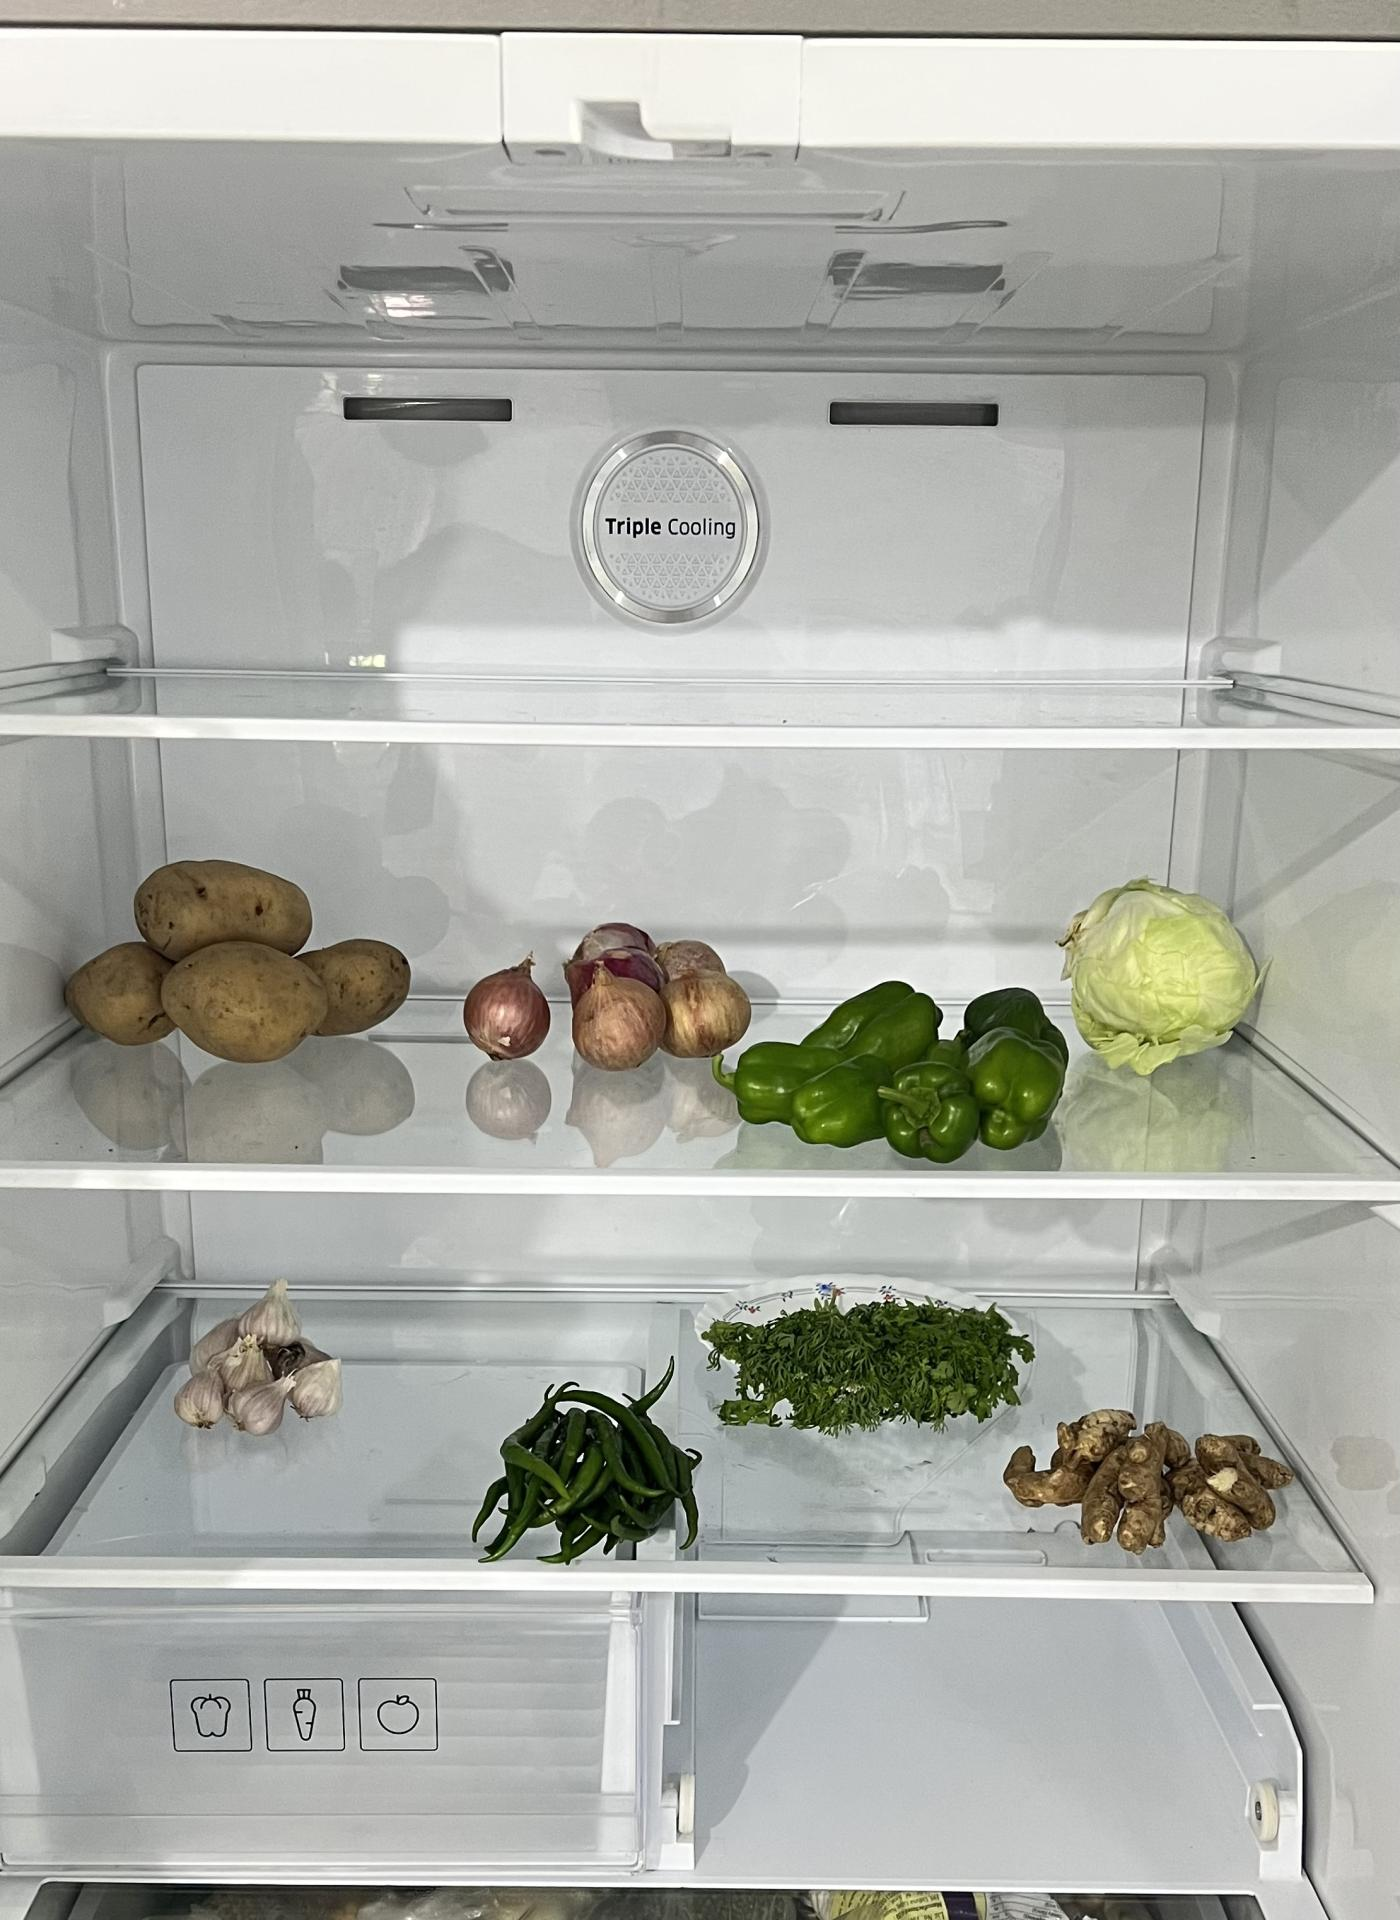cabbage: (1059, 874, 1254, 1067)
capsicum: (729, 976, 1072, 1154)
chillies: (480, 1374, 707, 1552)
coriander: (696, 1291, 1042, 1424)
garlic: (170, 1278, 346, 1433)
ginger: (1002, 1403, 1288, 1547)
onion: (465, 920, 747, 1064)
potato: (72, 853, 414, 1061)
